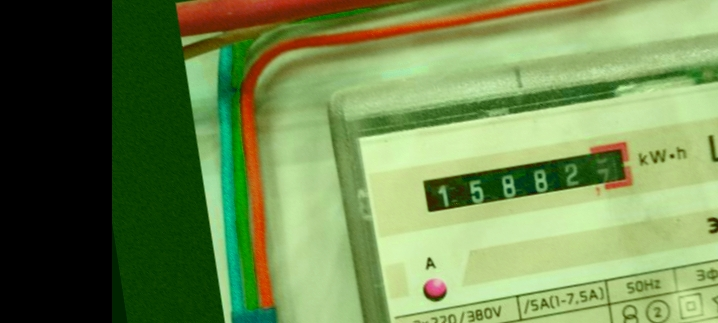1: (435, 178, 453, 209)
2: (561, 159, 582, 187)
5: (466, 175, 488, 207)
7: (595, 164, 611, 182)
8: (530, 164, 551, 194), (498, 170, 518, 200)
screen: (409, 130, 641, 225)
